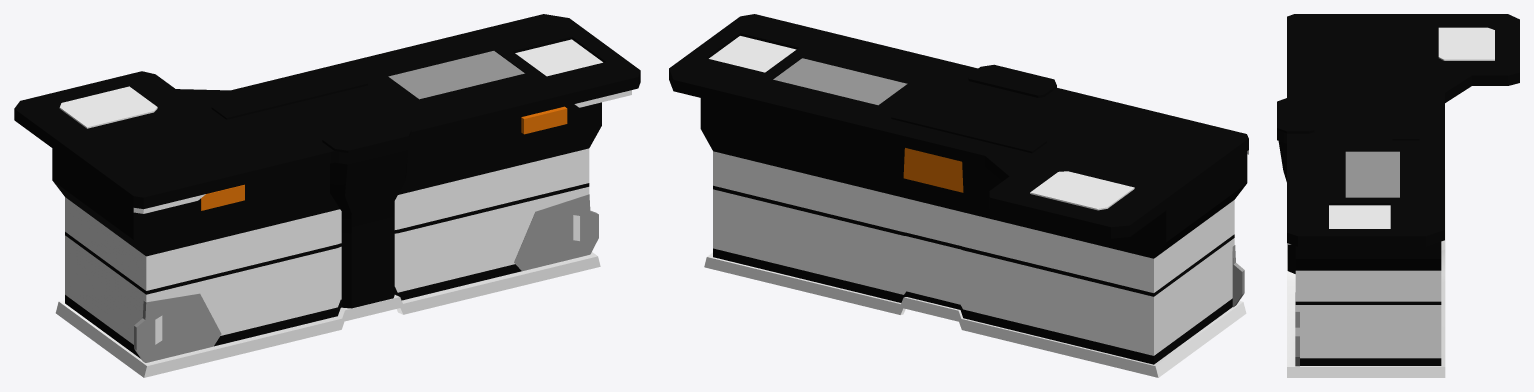
Rendered from SM_desk02.fbx.
The picture shows the model from 3 angles, left to right: view 1: azimuth 30°, elevation 25°; view 2: azimuth 150°, elevation 25°; view 3: azimuth 270°, elevation 25°; orthographic projection. The views are drawn at different scales.
Parts seen in each view (by area): view 1: desk2_lp; view 2: desk2_lp; view 3: desk2_lp.
Boxes of the visible parts, bbox=[...] form: desk2_lp: bbox=[14, 14, 640, 377]; desk2_lp: bbox=[669, 14, 1248, 377]; desk2_lp: bbox=[1277, 14, 1519, 377].
Size of the model in its own units: 278 by 95.97 by 128.
Materials: 1 (1 with a texture image).
